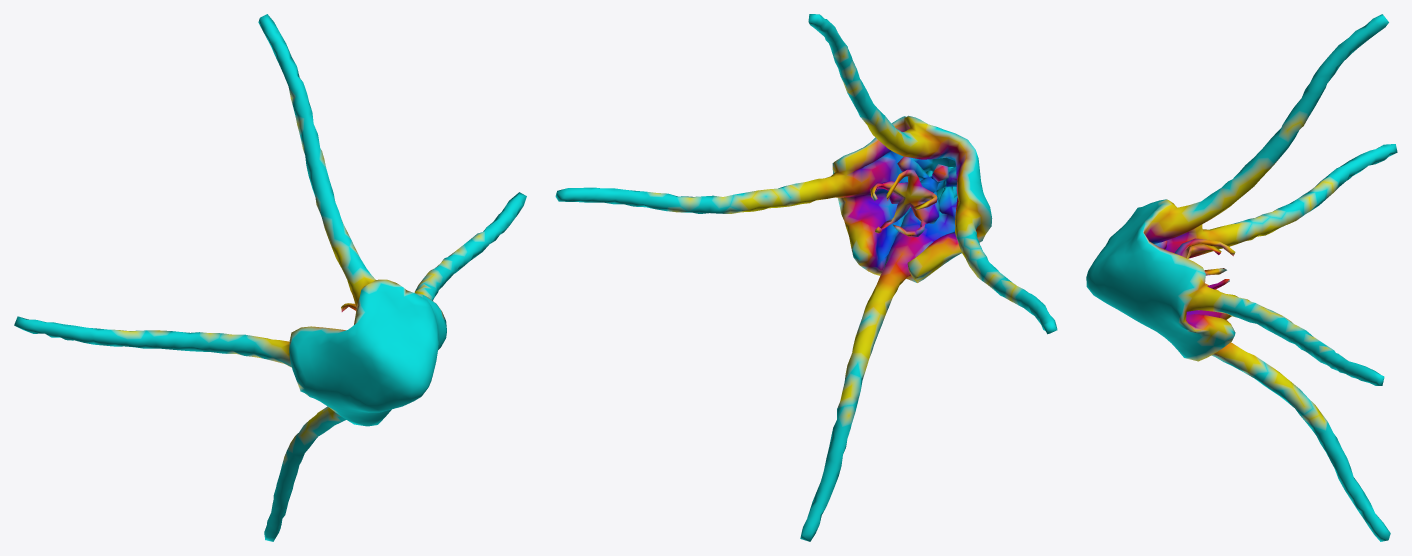
File: jelly_44.gltf
3 views of the same model, side by side, from view 1: azimuth 30°, elevation 25°; view 2: azimuth 150°, elevation 25°; view 3: azimuth 270°, elevation 25° (orthographic).
Visible parts, largest first — view 1: jellysquid3; view 2: jellysquid3; view 3: jellysquid3.
Boxes of the visible parts, bbox=[...] form: jellysquid3: bbox=[14, 14, 526, 541]; jellysquid3: bbox=[555, 14, 1057, 541]; jellysquid3: bbox=[1086, 14, 1397, 541].
Bounding box in the file's own units: 22.89 × 22.78 × 12.3.
